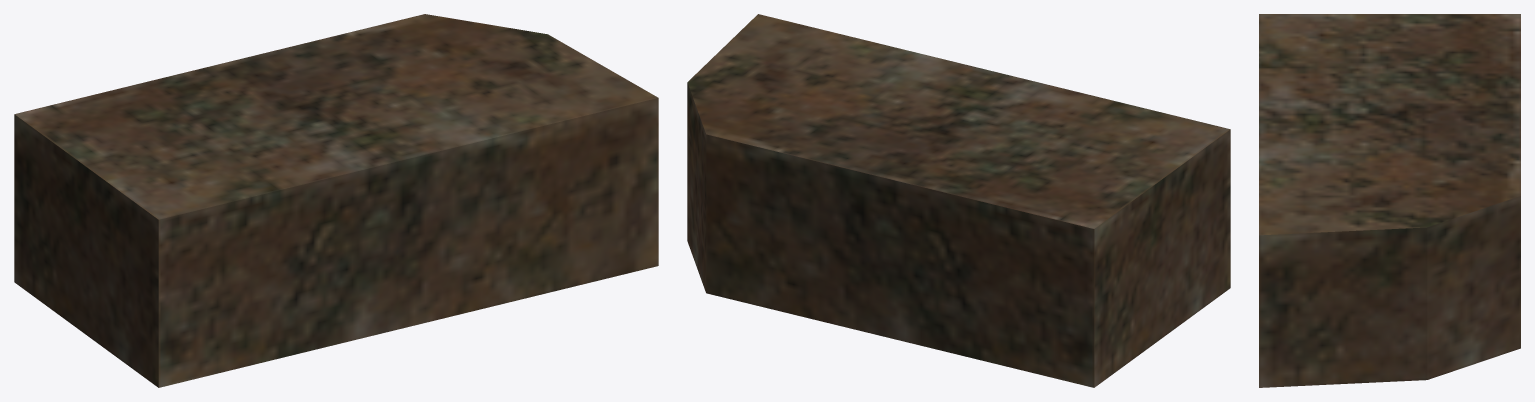
Rendered from brick_mx_2_0.obj.
3 renders of one model, left to right at view 1: azimuth 30°, elevation 25°; view 2: azimuth 150°, elevation 25°; view 3: azimuth 270°, elevation 25°, orthographic. The views are drawn at different scales.
Visible parts, largest first — view 1: brick_mx_2_0; view 2: brick_mx_2_0; view 3: brick_mx_2_0.
Boxes of the visible parts, <box> form: brick_mx_2_0: <box>14,14,658,387</box>; brick_mx_2_0: <box>687,14,1230,387</box>; brick_mx_2_0: <box>1259,14,1520,387</box>.
Size of the model in its own units: 0.28 by 0.09 by 0.14.
